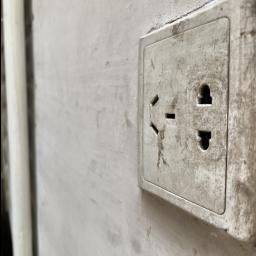outlet: (130, 0, 256, 236)
